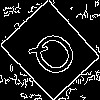Q: (25, 25, 88, 88)
